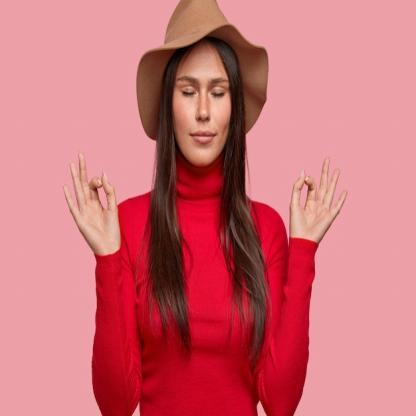ok: (63, 148, 120, 258), (288, 152, 349, 247)
